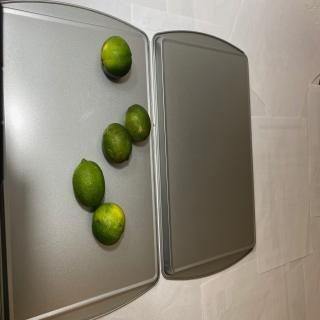Lemon: (72, 158, 105, 208), (92, 202, 125, 246), (100, 35, 132, 79), (102, 123, 132, 164), (124, 104, 151, 142)
